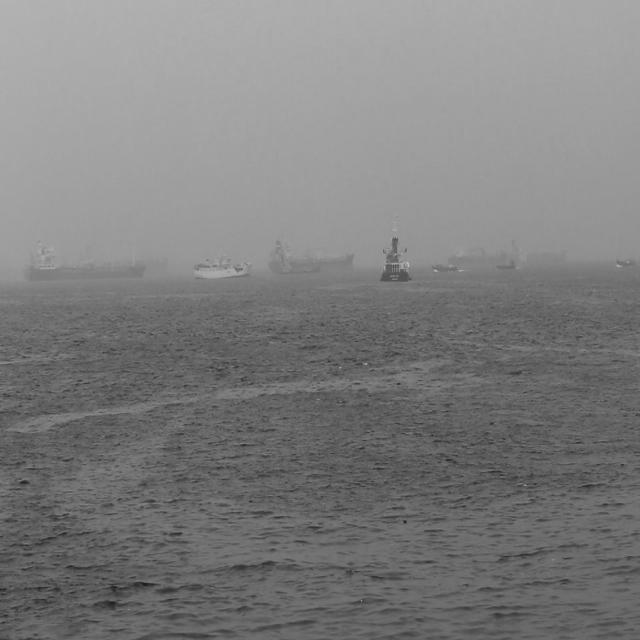ship: (28, 238, 148, 278), (270, 240, 356, 276), (382, 212, 412, 284), (193, 253, 254, 280), (448, 246, 516, 264), (432, 262, 458, 274), (616, 256, 640, 268), (496, 262, 518, 274)
